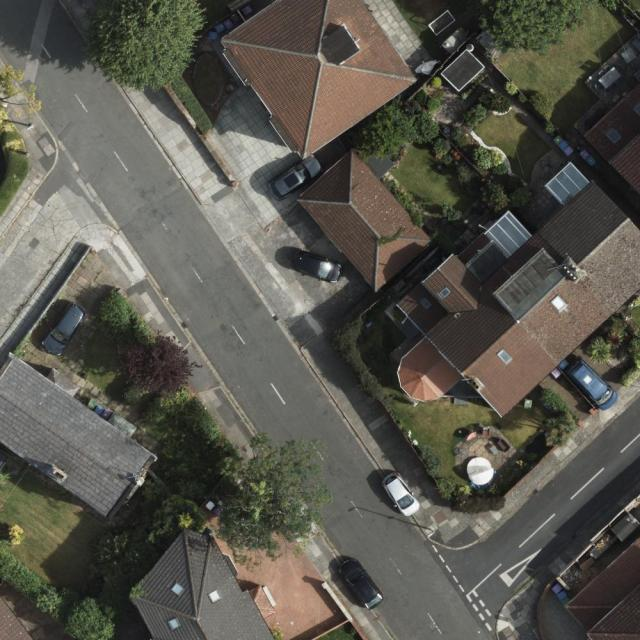roof: (398, 159, 640, 420), (217, 0, 417, 163), (0, 355, 157, 519), (292, 151, 432, 293), (131, 532, 276, 640), (559, 537, 640, 639), (584, 83, 640, 201), (0, 595, 35, 640)
skylight: (549, 295, 570, 315), (496, 346, 515, 368), (607, 129, 624, 147), (207, 587, 222, 606), (170, 581, 185, 599), (167, 615, 183, 631), (437, 286, 453, 299), (420, 296, 433, 310), (633, 104, 640, 118)
